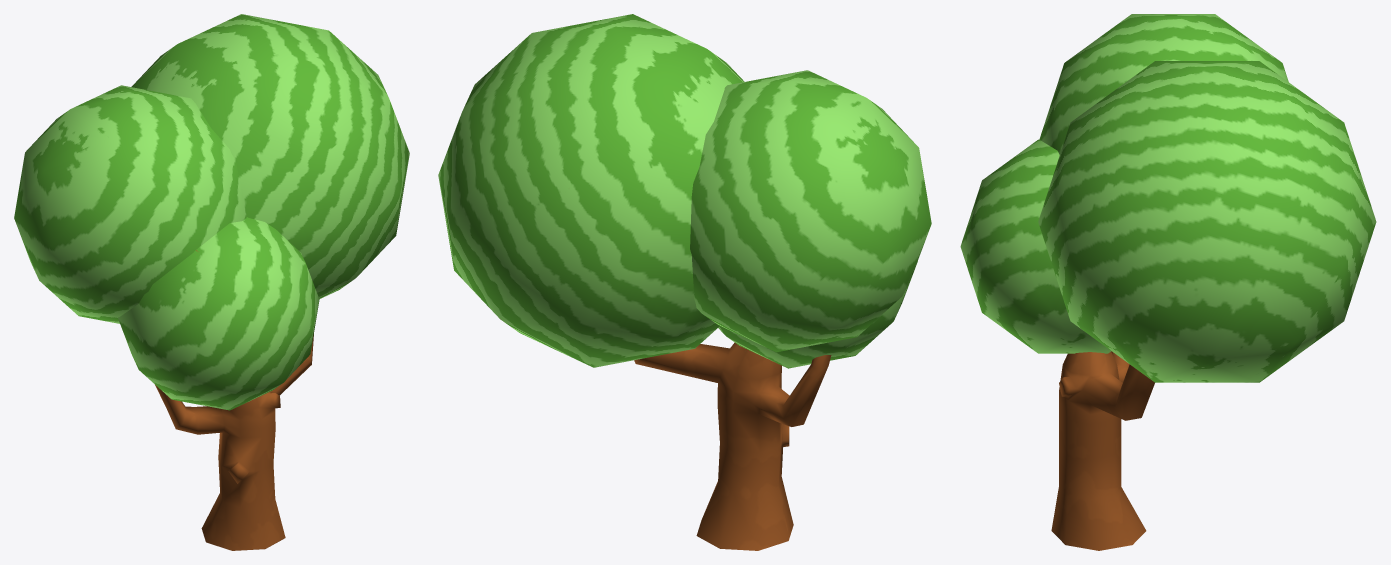
The model's file is apple_tree.glb.
3 renders of one model, left to right at view 1: azimuth 30°, elevation 25°; view 2: azimuth 150°, elevation 25°; view 3: azimuth 270°, elevation 25°, orthographic. The views are drawn at different scales.
Visible parts, largest first — view 1: tree_sphere; view 2: tree_sphere; view 3: tree_sphere.
Boxes of the visible parts, x1,y1,x2,y2 form: tree_sphere: (14, 14, 409, 550); tree_sphere: (438, 14, 931, 550); tree_sphere: (960, 14, 1376, 550).
Size of the model in its own units: 3.67 by 4.32 by 3.28.
Materials: 2 (2 with a texture image).
